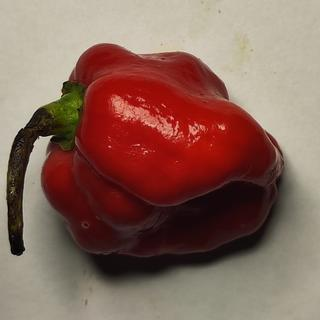Grade-A: (33, 35, 287, 265)
